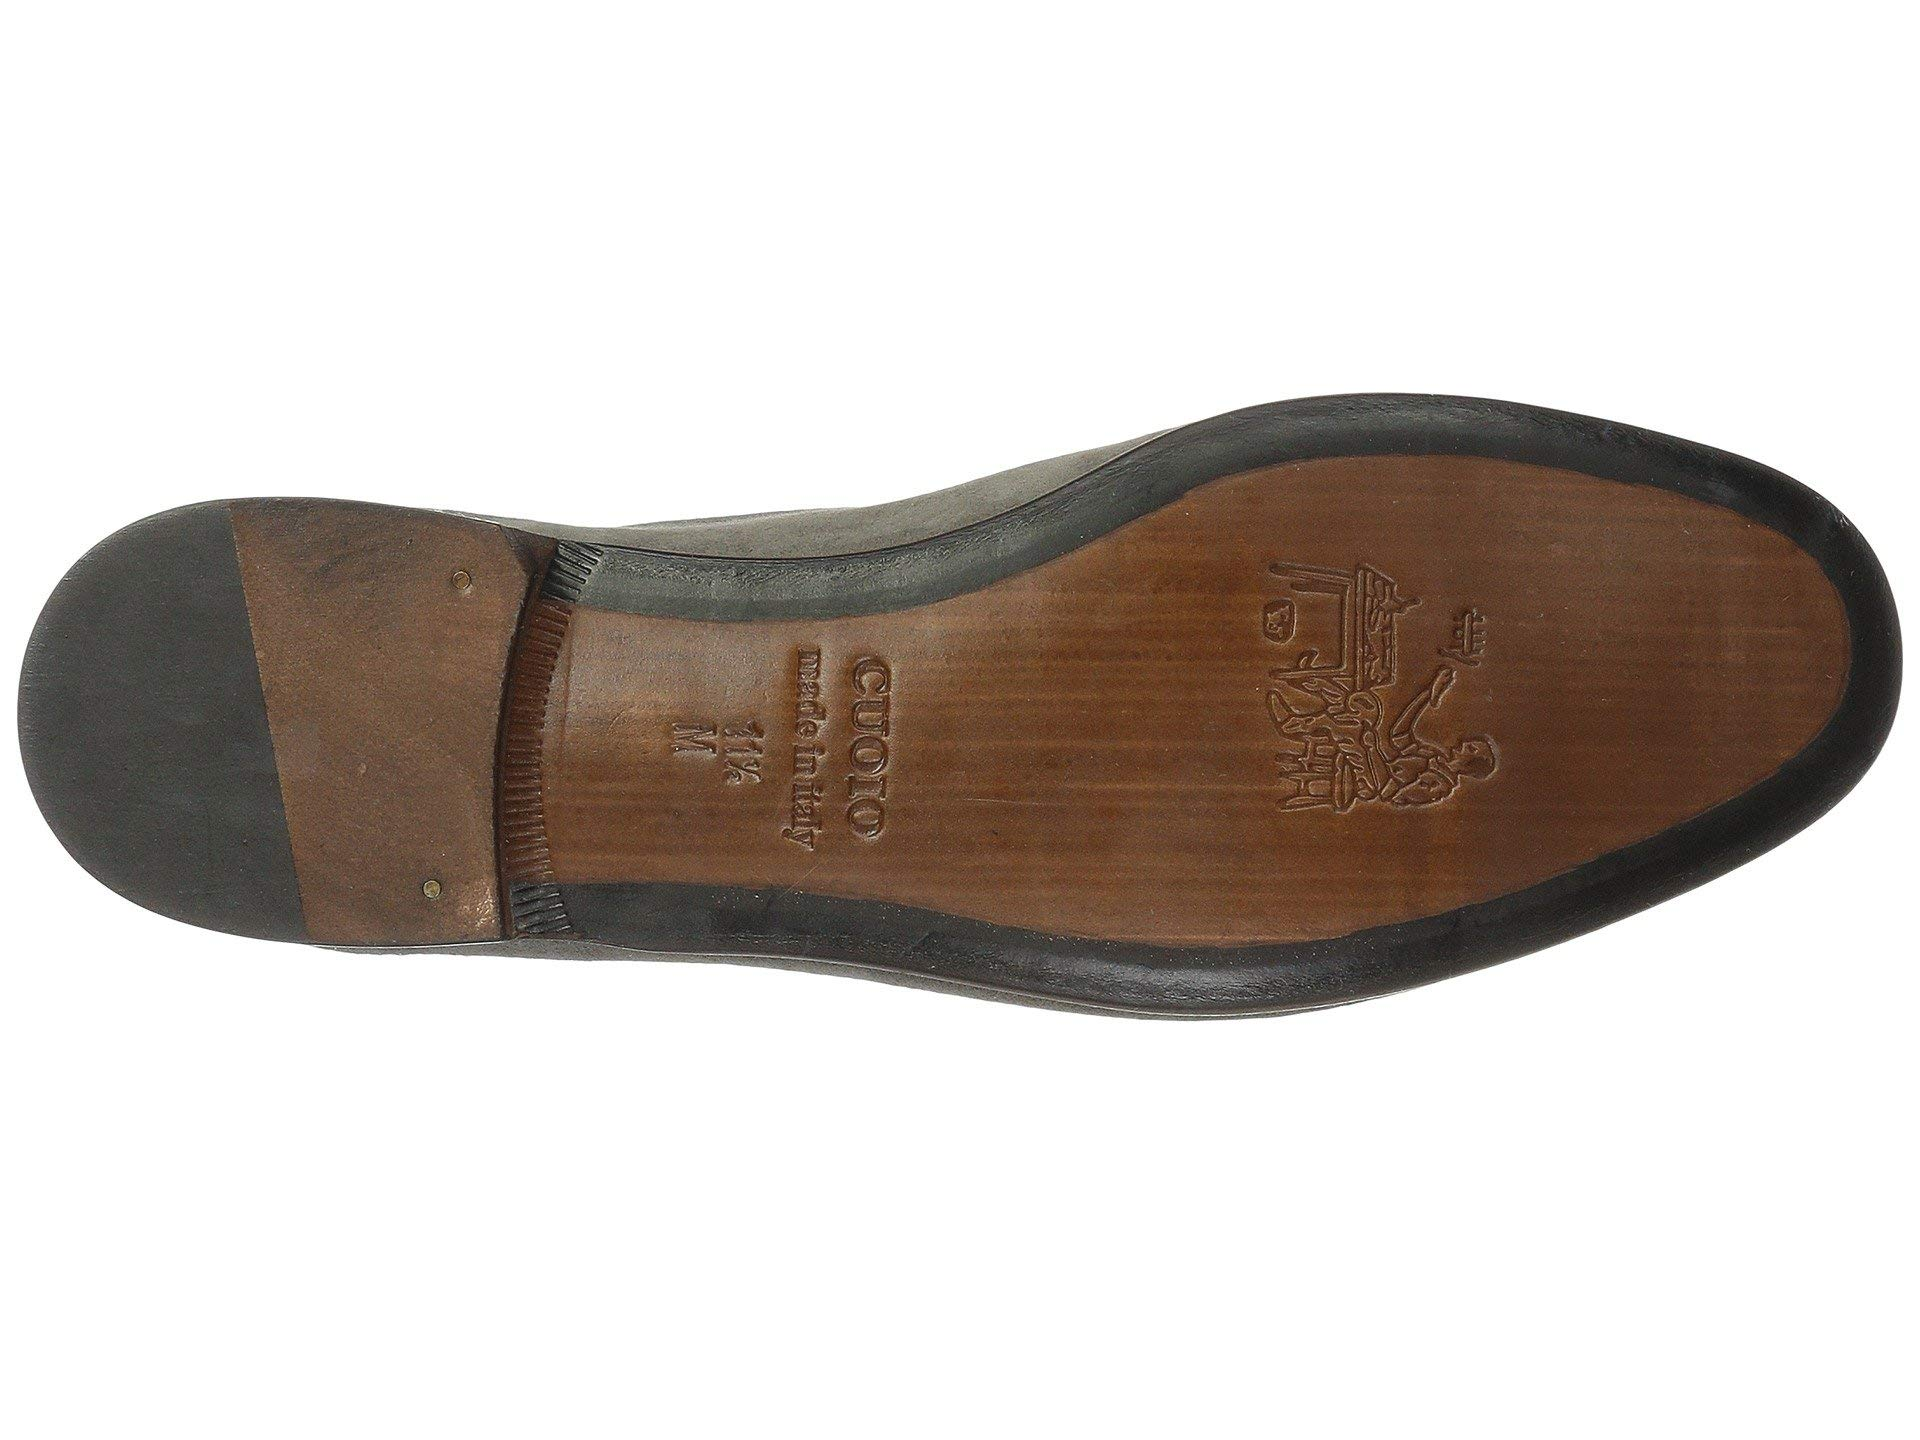circle: (638, 605, 980, 870), (417, 543, 496, 641), (410, 873, 454, 921)
line: (177, 505, 376, 948)
other: (1197, 466, 1538, 870)
text: (638, 605, 980, 870)
